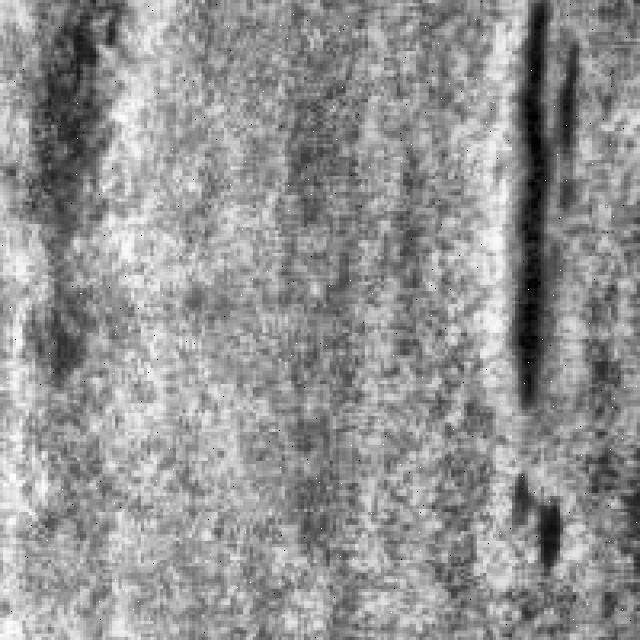Patches: (492, 0, 586, 413), (492, 454, 564, 572)
